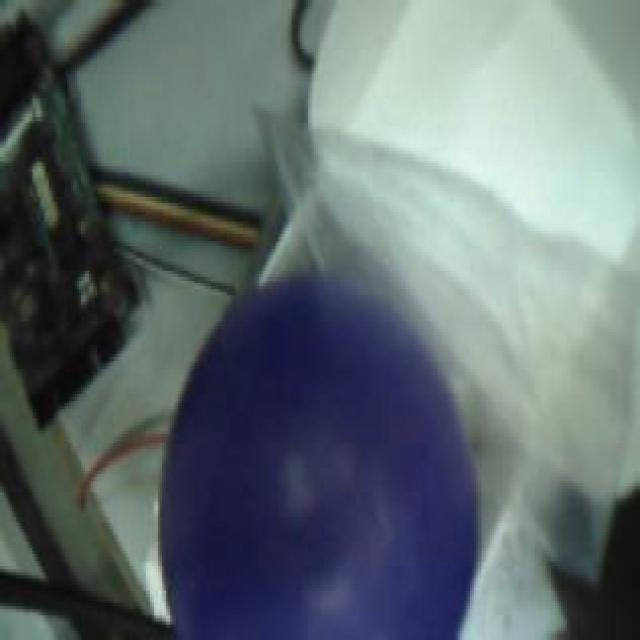BallPurple: (159, 280, 477, 640)
